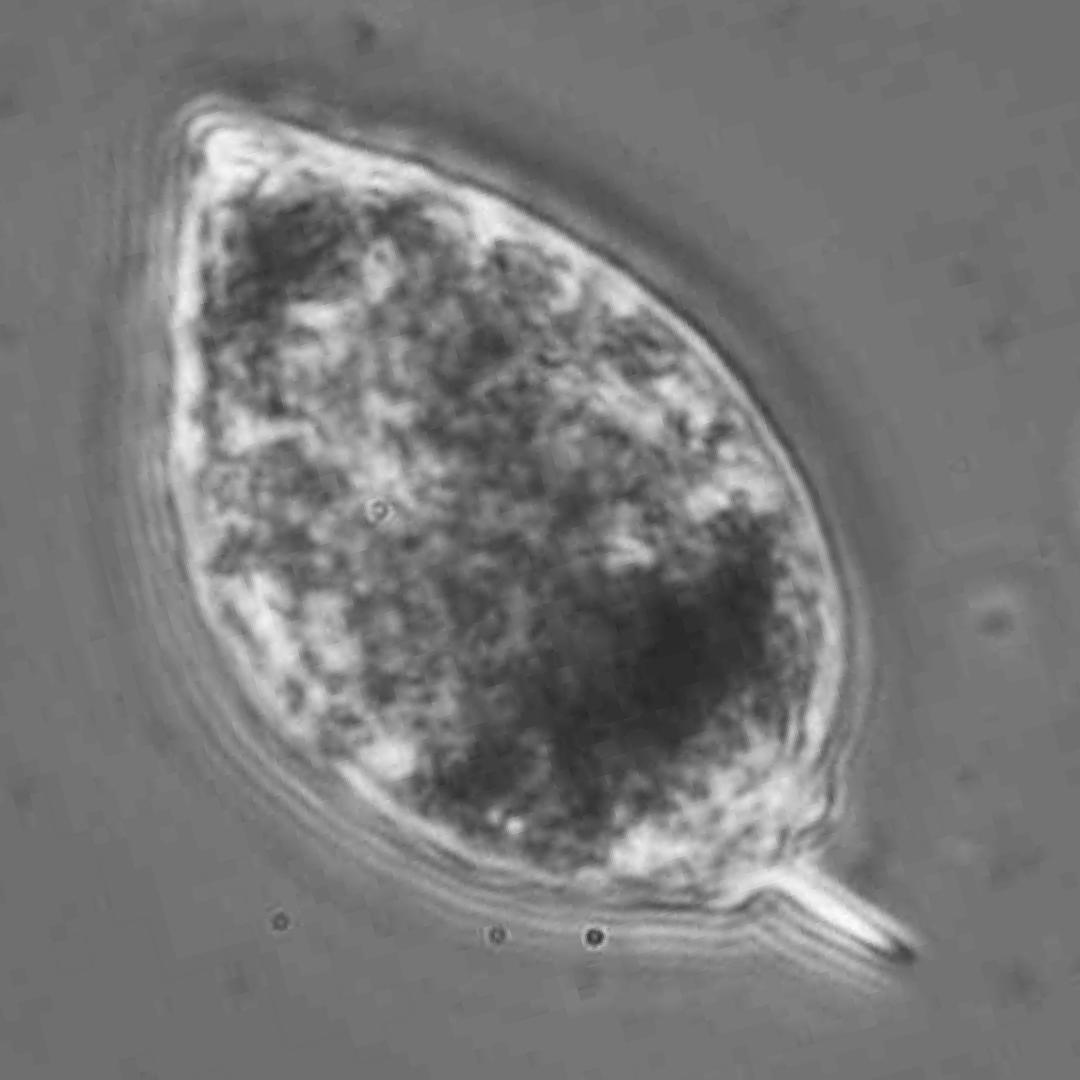prorocentrum_micans: (160, 105, 915, 965)
